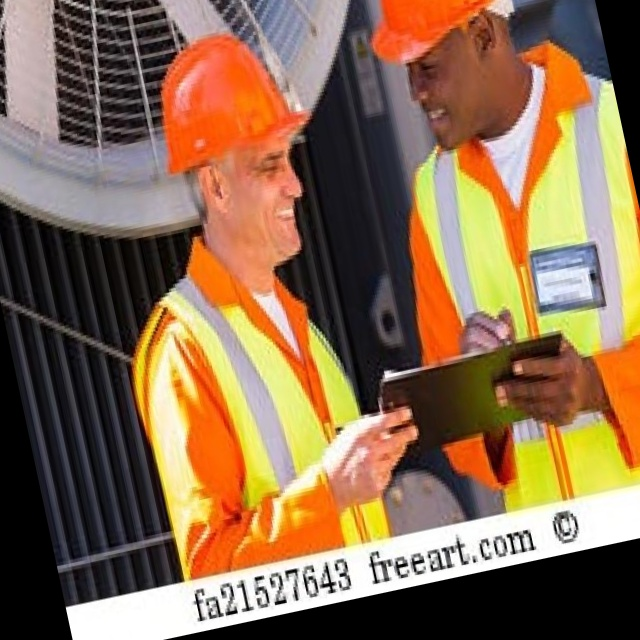Con_Casco: (141, 19, 326, 268), (343, 0, 537, 128)
Con_Chaleco: (408, 102, 640, 508), (126, 260, 391, 578)
